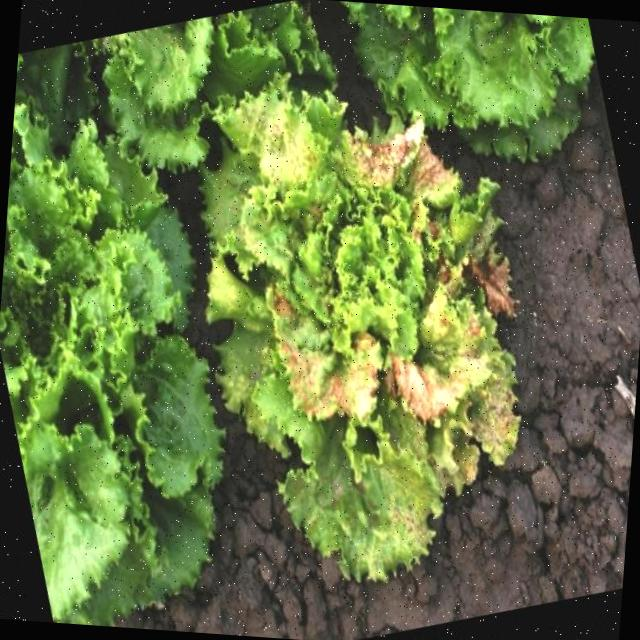Bacterial: (202, 96, 522, 517)
